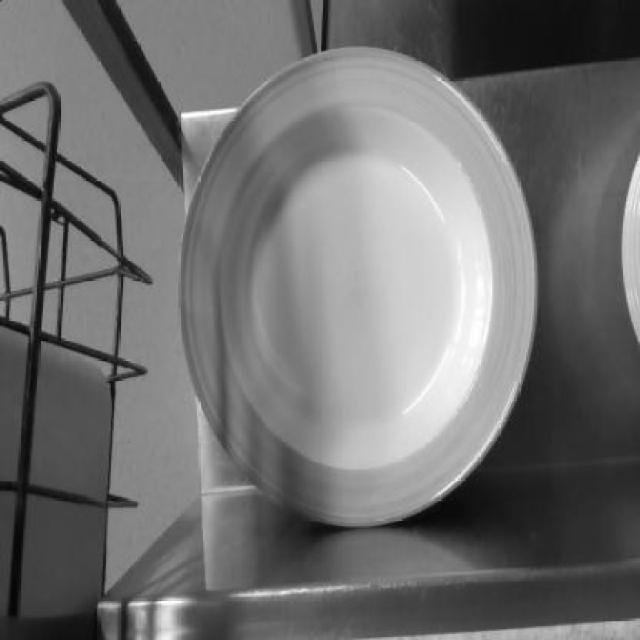plate: (182, 50, 540, 530)
